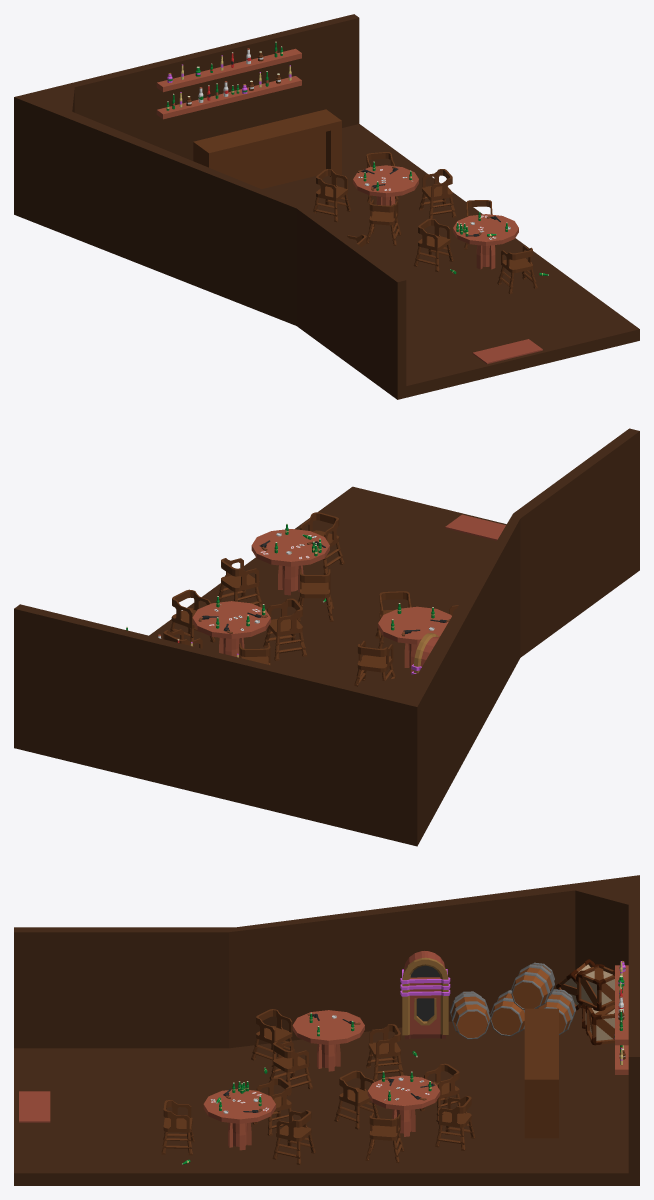
Rendered from inside_saloon_v2.fbx.
3 views of the same model, one above another, from view 1: azimuth 30°, elevation 25°; view 2: azimuth 150°, elevation 25°; view 3: azimuth 270°, elevation 25° (orthographic). The views are drawn at different scales.
Parts seen in each view (by area): view 1: Cube, Cube.011, Cube.012, Circle, Circle.001, Cube.002, Cube.005, Cube.006, Cube.003, Plane.021, Cube.007; view 2: Cube, Circle, Circle.001, Circle.002, Cube.007, Cube.001, Cube.010, Cube.002, Cube.006, Plane.021, Cube.003; view 3: Cube, Cube.011, Cube.013, Circle.002, Circle, Circle.001, Cylinder.007, Cylinder.008, Cube.023, Cube.010, Cube.004, Cube.001 (+13 smaller).
Part boxes in pixels (box(x1,y1,x2,y2)): Cube: box(14, 14, 639, 399); Cube.011: box(193, 109, 341, 188); Cube.012: box(156, 48, 301, 119); Circle: box(453, 214, 518, 269); Circle.001: box(353, 165, 418, 205); Cube.002: box(413, 218, 453, 271); Cube.005: box(313, 169, 351, 222); Cube.006: box(419, 169, 456, 218); Cube.003: box(497, 245, 537, 294); Plane.021: box(472, 339, 542, 363); Cube.007: box(366, 199, 401, 245); Cube: box(14, 428, 639, 846); Circle: box(251, 529, 329, 595); Circle.001: box(192, 601, 270, 657); Circle.002: box(378, 606, 451, 672); Cube.007: box(263, 598, 307, 660); Cube.001: box(218, 558, 262, 607); Cube.010: box(354, 641, 395, 686); Cube.002: box(297, 569, 333, 621); Cube.006: box(170, 589, 215, 646); Plane.021: box(445, 514, 505, 540); Cube.003: box(300, 512, 344, 574); Cube: box(14, 875, 639, 1185); Cube.011: box(524, 1008, 558, 1138); Cube.013: box(400, 951, 450, 1039); Circle.002: box(292, 1010, 364, 1071); Circle: box(203, 1089, 275, 1150); Circle.001: box(367, 1075, 440, 1136); Cylinder.007: box(511, 962, 554, 1009); Cylinder.008: box(450, 991, 490, 1039); Cube.023: box(576, 964, 614, 1010); Cube.010: box(366, 1024, 403, 1080); Cube.004: box(435, 1096, 475, 1150); Cube.001: box(272, 1110, 315, 1164).
Bounding box in the file's own units: 2760 × 911 × 4013.
